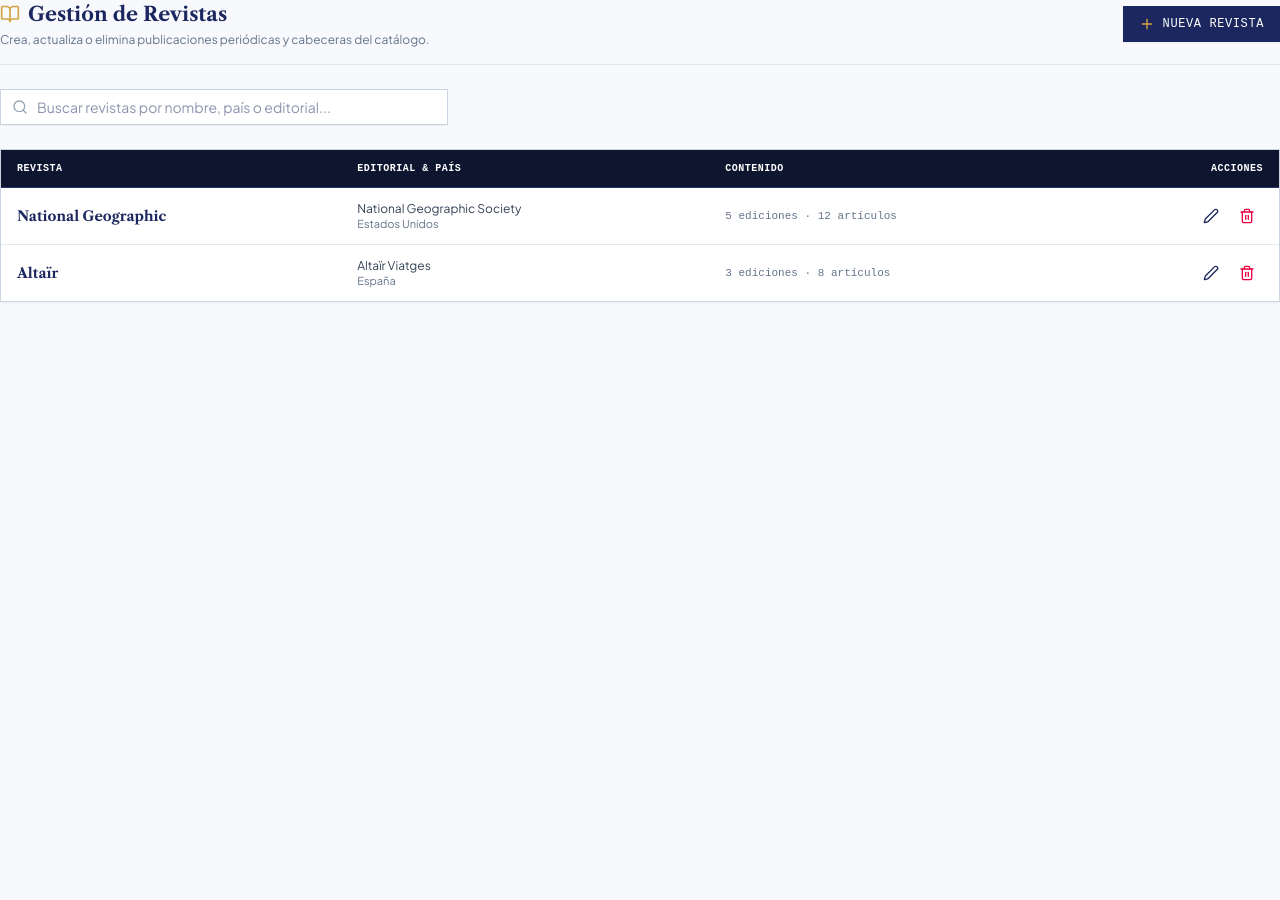
Test case: MagazineManagementSection Component › opens create modal when clicking "Nueva Revista" button
Check: the table with test id "magazines-table" is shown, box x1=1 y1=150 x2=1279 y2=301
Click the button with test id "magazine-create-btn". click: (1201, 24)
box: x1=1123 y1=6 x2=1279 y2=42
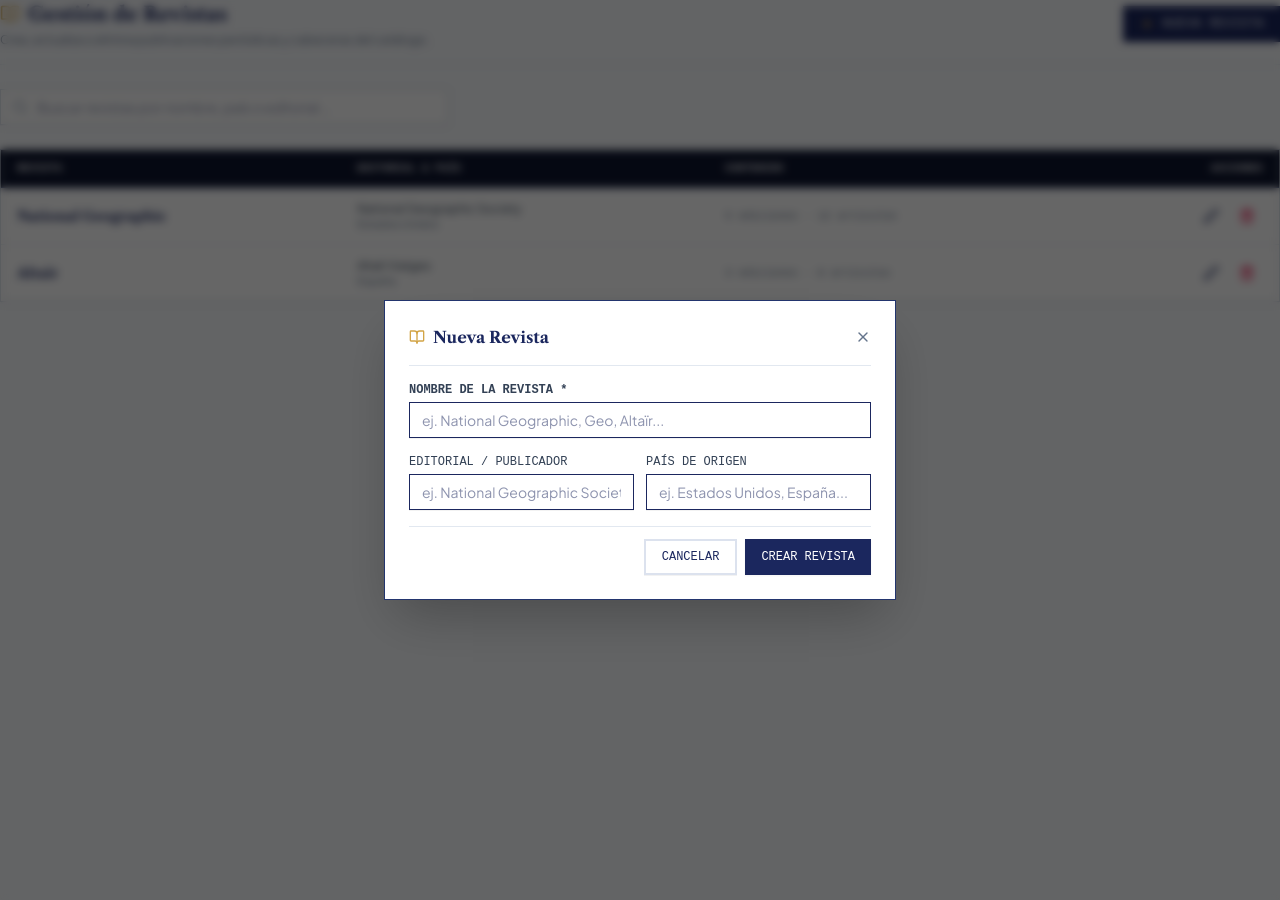
Check: the element with test id "magazine-form-modal" is shown
Check: the field with test id "magazine-form-name" is shown, box x1=409 y1=402 x2=871 y2=438
Check: the button with test id "magazine-submit-btn" reads "Crear Revista", box x1=745 y1=539 x2=871 y2=575
